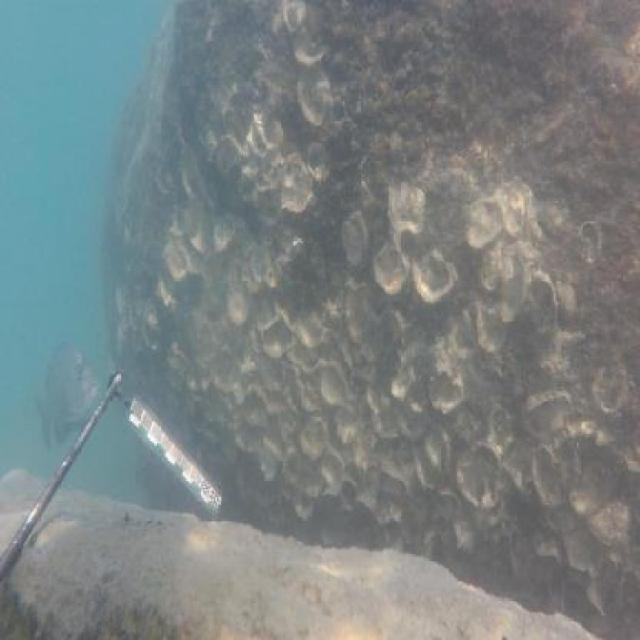acanthopagrus_palmaris: (36, 339, 101, 448)
